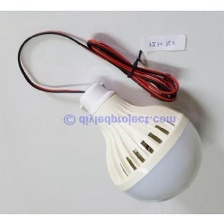light_bulb: (73, 78, 208, 207)
